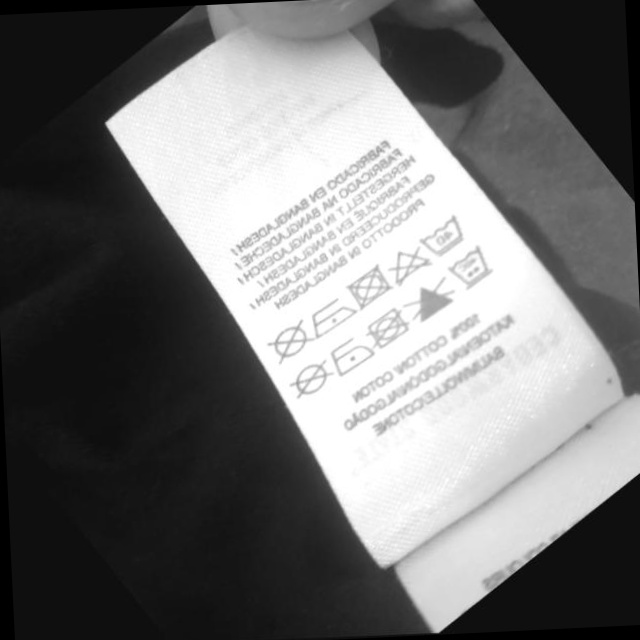40C: (416, 213, 463, 258), (445, 245, 493, 288)
DN_bleach: (402, 278, 456, 325), (389, 248, 432, 285)
DN_dry_clean: (281, 358, 337, 402), (263, 319, 315, 363)
DN_tumble_dry: (344, 264, 392, 311), (361, 306, 406, 351)
iron_low: (306, 296, 359, 337), (327, 335, 374, 379)
